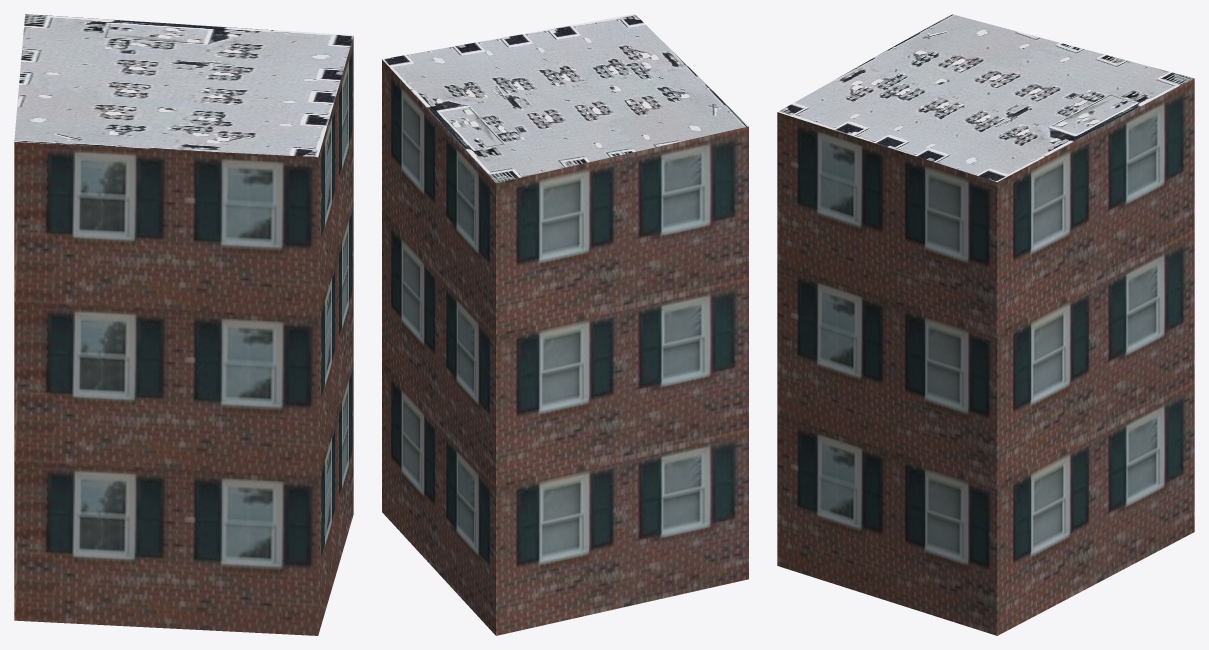
Rendered from ResTex__2911.fbx.
The picture shows the model from 3 angles, left to right: view 1: azimuth 30°, elevation 25°; view 2: azimuth 150°, elevation 25°; view 3: azimuth 270°, elevation 25°; orthographic projection. The views are drawn at different scales.
Visible parts, largest first — view 1: CityEngineMaterial_14_m, CityEngineMaterial_2_m; view 2: CityEngineMaterial_14_m, CityEngineMaterial_2_m; view 3: CityEngineMaterial_14_m, CityEngineMaterial_2_m.
Part boxes in pixels (<box>): CityEngineMaterial_14_m: <box>14,36,353,635</box>; CityEngineMaterial_2_m: <box>14,14,353,157</box>; CityEngineMaterial_14_m: <box>382,59,748,635</box>; CityEngineMaterial_2_m: <box>382,14,748,182</box>; CityEngineMaterial_14_m: <box>777,78,1194,635</box>; CityEngineMaterial_2_m: <box>778,14,1193,181</box>.
Bounding box in the file's own units: 7.15 × 9 × 7.5.
Materials: 2 (2 with a texture image).
